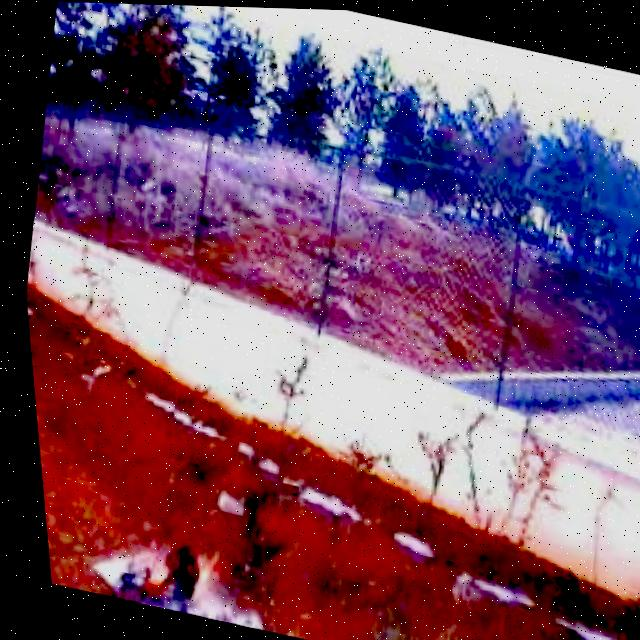Fire: (88, 524, 218, 619)
